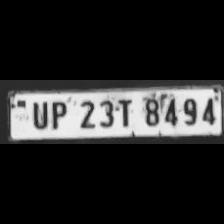2: (73, 98, 97, 130)
3: (95, 96, 115, 128)
4: (198, 94, 218, 126), (161, 93, 179, 126)
8: (140, 95, 162, 127)
9: (178, 94, 198, 125)
P: (46, 98, 70, 130)
T: (116, 96, 136, 128)
U: (28, 98, 48, 130)
